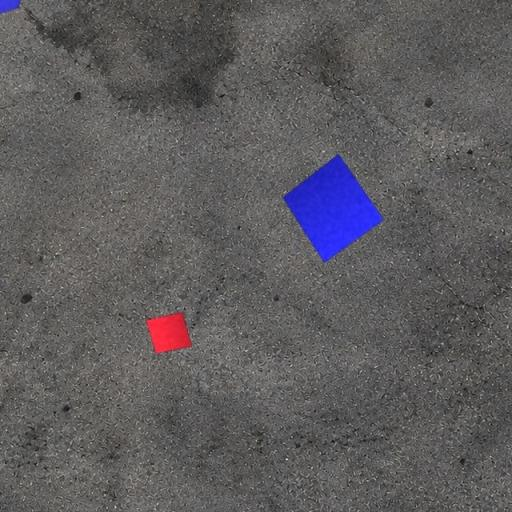BLUE_SQUARE: (282, 154, 384, 263)
RED_SQUARE: (146, 312, 192, 354)
